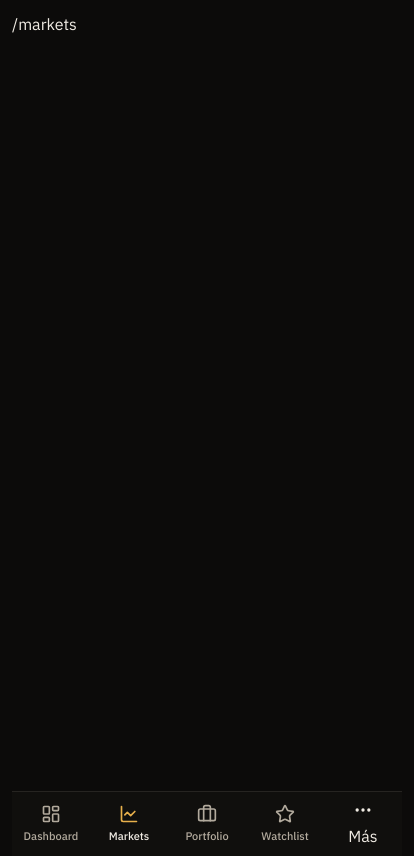
Test: BottomNav › More menu › closes when clicking outside
Click the button "Más" at (363, 824), box [324,792,402,855]
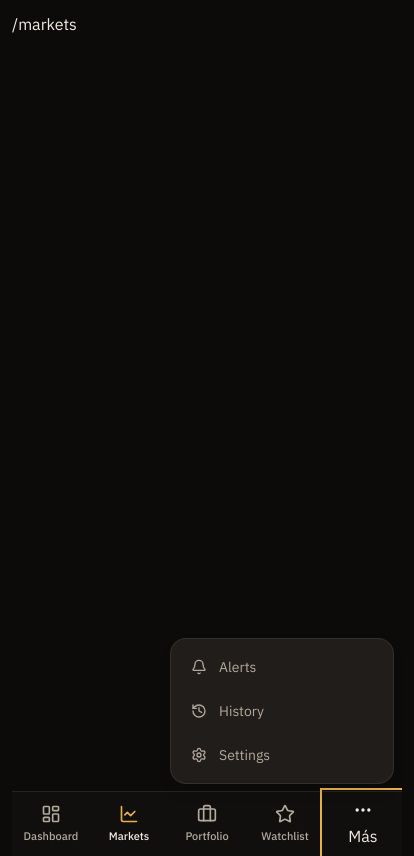
Click the element that starts with "Dashboard" at (207, 434), box [12,12,402,855]
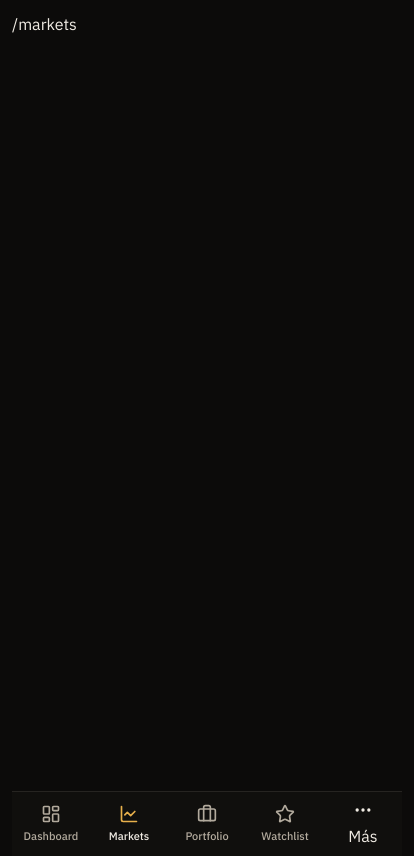
Check: the link "Alerts" is gone
